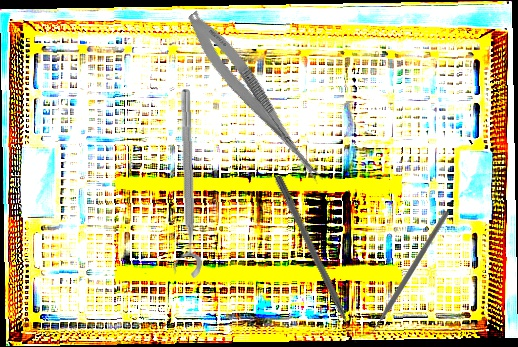Chopper: (359, 211, 448, 337)
Fixation Ring: (165, 88, 203, 280)
Micro Scissor: (178, 6, 335, 189)
Pusher: (272, 174, 360, 346)
